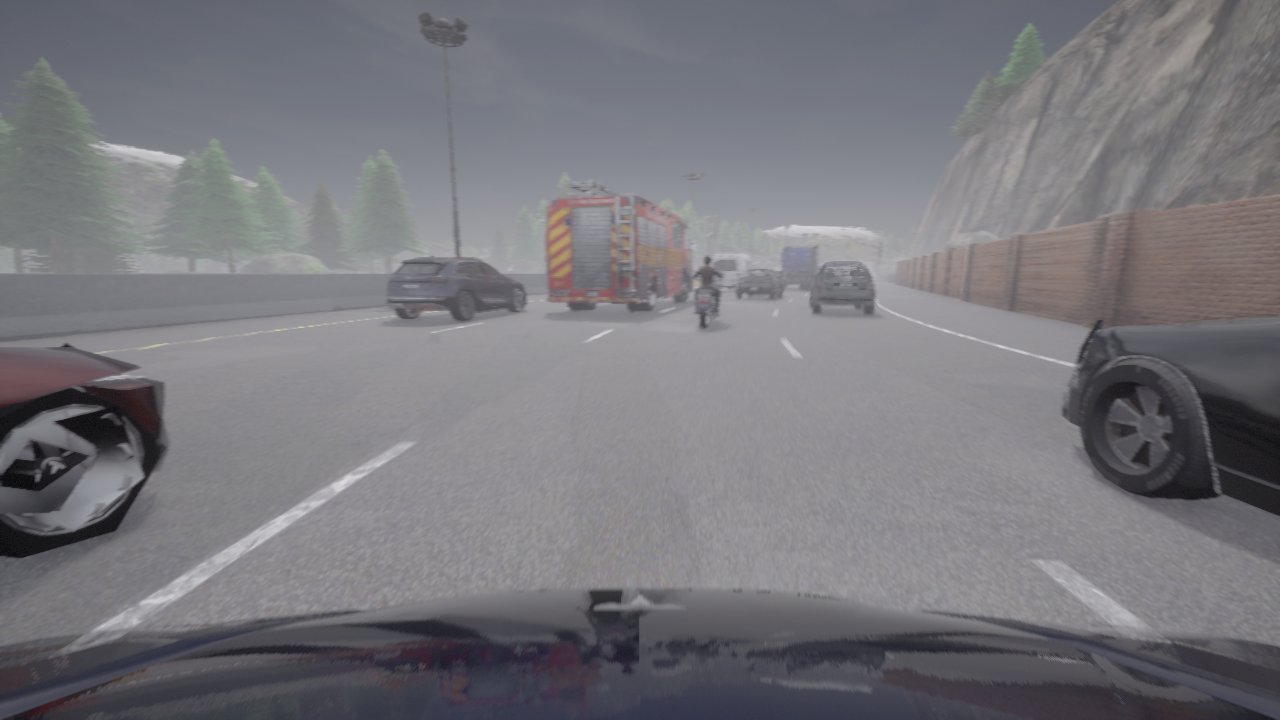cyclist: (0, 588, 1279, 719), (1062, 315, 1279, 516), (0, 343, 170, 558), (546, 180, 697, 311), (386, 256, 526, 320), (810, 262, 874, 314), (775, 244, 823, 290), (695, 271, 724, 328), (712, 252, 752, 289), (736, 268, 782, 299)
